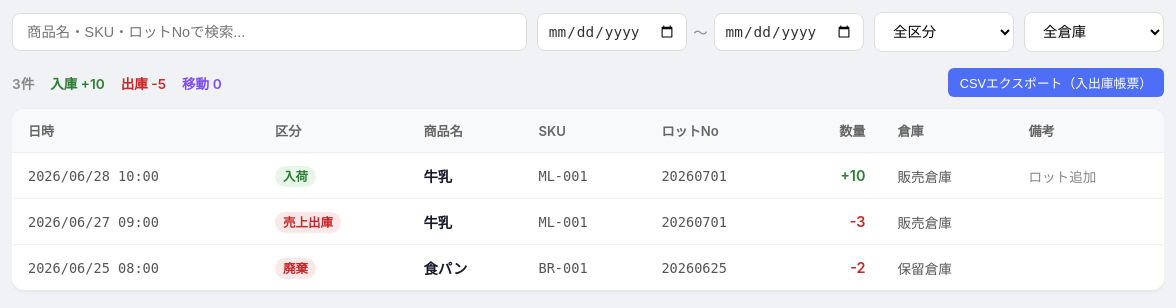
Test: LedgerView — 絞り込み › 一致する記録がないときはテーブルの代わりに案内文を出す
Type "チーズ" into the field with placeholder "商品名・SKU・ロットNoで検索..." at (269, 32), box x1=12 y1=13 x2=527 y2=51
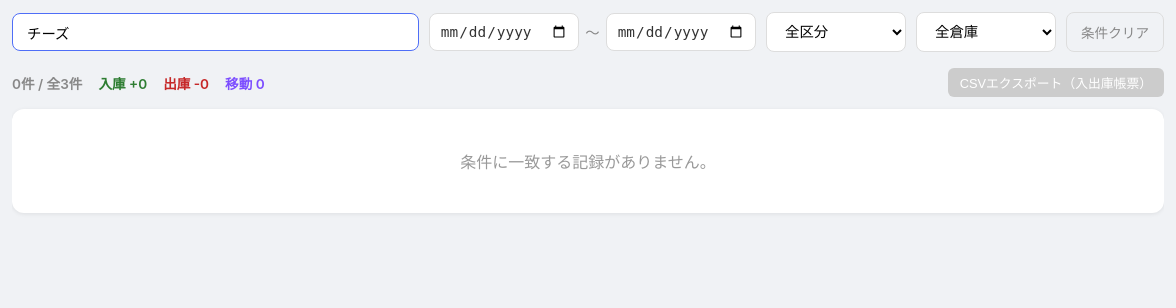
Result: the table is gone
Result: the text "条件に一致する記録がありません。" is shown at x1=460 y1=152 x2=716 y2=172
